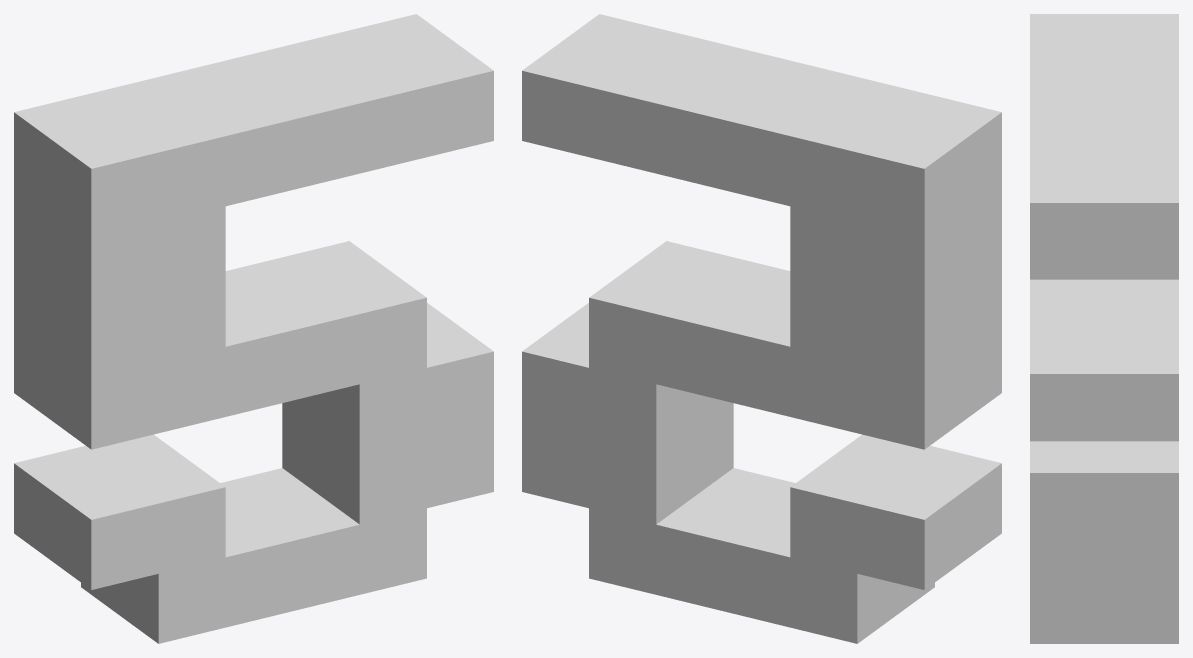
Rendered from Number5.obj.
The picture shows the model from 3 angles, left to right: view 1: azimuth 30°, elevation 25°; view 2: azimuth 150°, elevation 25°; view 3: azimuth 270°, elevation 25°; orthographic projection. The views are drawn at different scales.
Size of the model in its own units: 0.6 by 0.7 by 0.2.
1 material, 1 textured.
